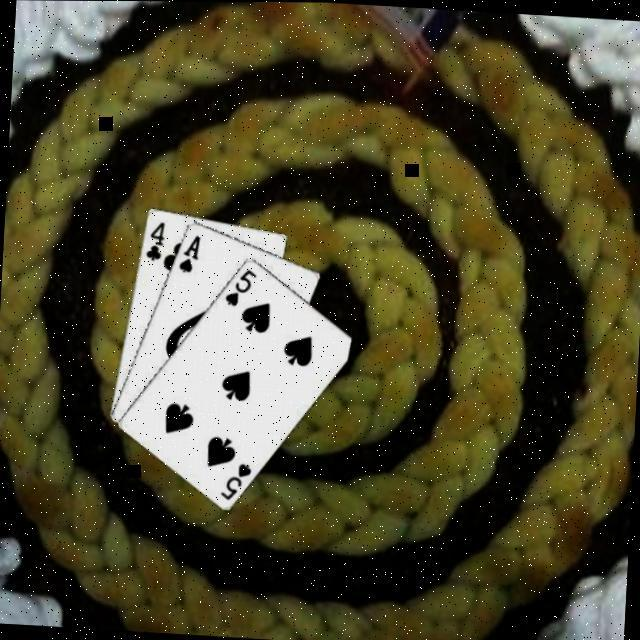4C: (142, 216, 167, 262)
5S: (221, 262, 259, 308), (216, 457, 254, 502)
AS: (175, 230, 203, 275)
